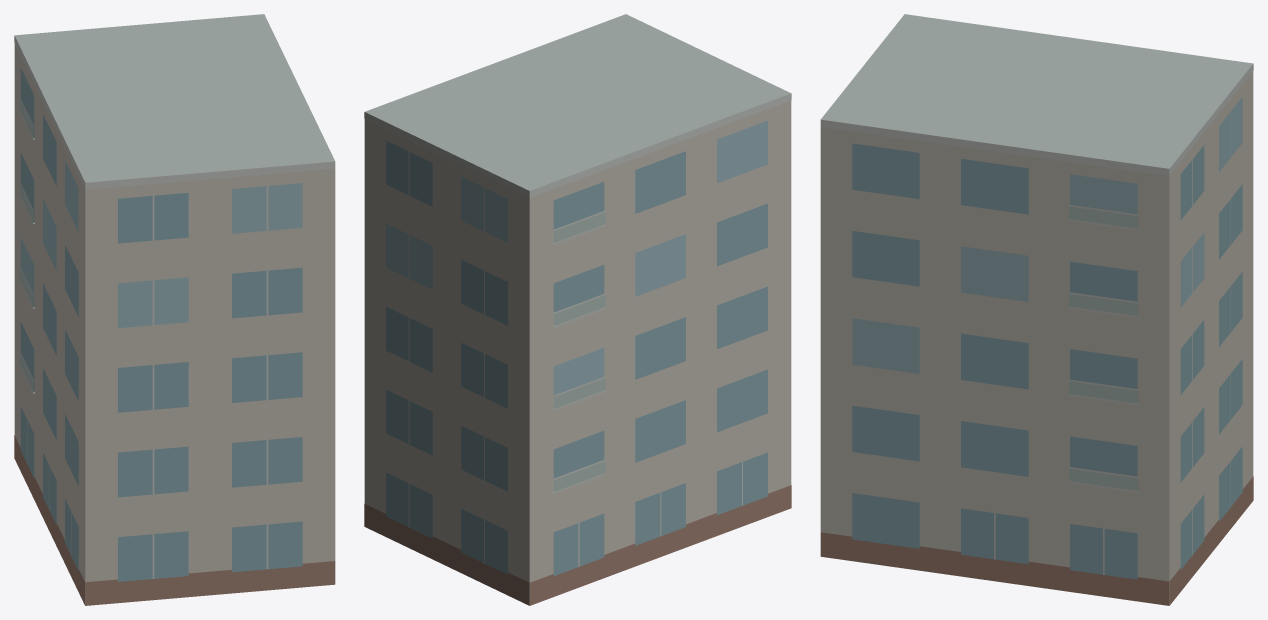
Rendered from survey-upis-32669717.glb.
The picture shows the model from 3 angles, left to right: view 1: azimuth 30°, elevation 25°; view 2: azimuth 150°, elevation 25°; view 3: azimuth 270°, elevation 25°; orthographic projection. The views are drawn at different scales.
Visible parts, largest first — view 1: survey-upis-32669717.tmp; view 2: survey-upis-32669717.tmp; view 3: survey-upis-32669717.tmp.
Boxes of the visible parts, box(x1,y1,x2,y2) form: survey-upis-32669717.tmp: box(14, 14, 335, 605); survey-upis-32669717.tmp: box(364, 14, 791, 605); survey-upis-32669717.tmp: box(820, 14, 1253, 605).
Bounding box in the file's own units: 11.1 × 14.6 × 13.12.
